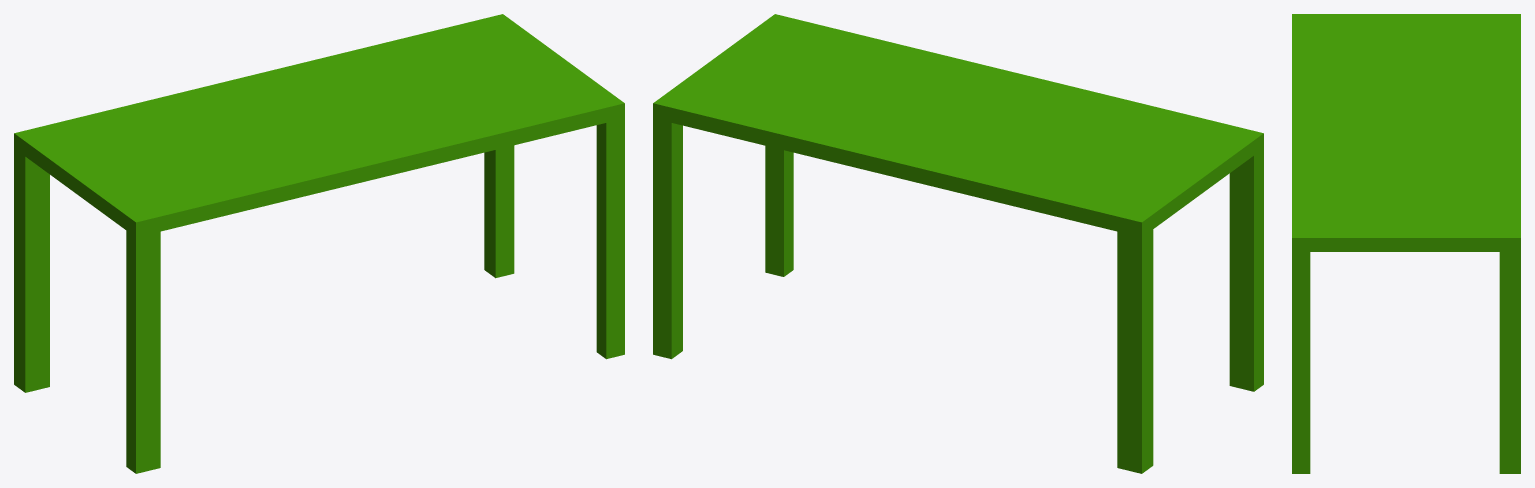
File: Table.fbx
3 renders of one model, left to right at view 1: azimuth 30°, elevation 25°; view 2: azimuth 150°, elevation 25°; view 3: azimuth 270°, elevation 25°, orthographic. The views are drawn at different scales.
Parts seen in each view (by area): view 1: Table; view 2: Table; view 3: Table.
Boxes of the visible parts, x1,y1,x2,y2 form: Table: (14,14,624,473); Table: (653,14,1263,473); Table: (1292,14,1520,473).
Bounding box in the file's own units: 204 × 100 × 88.03.
